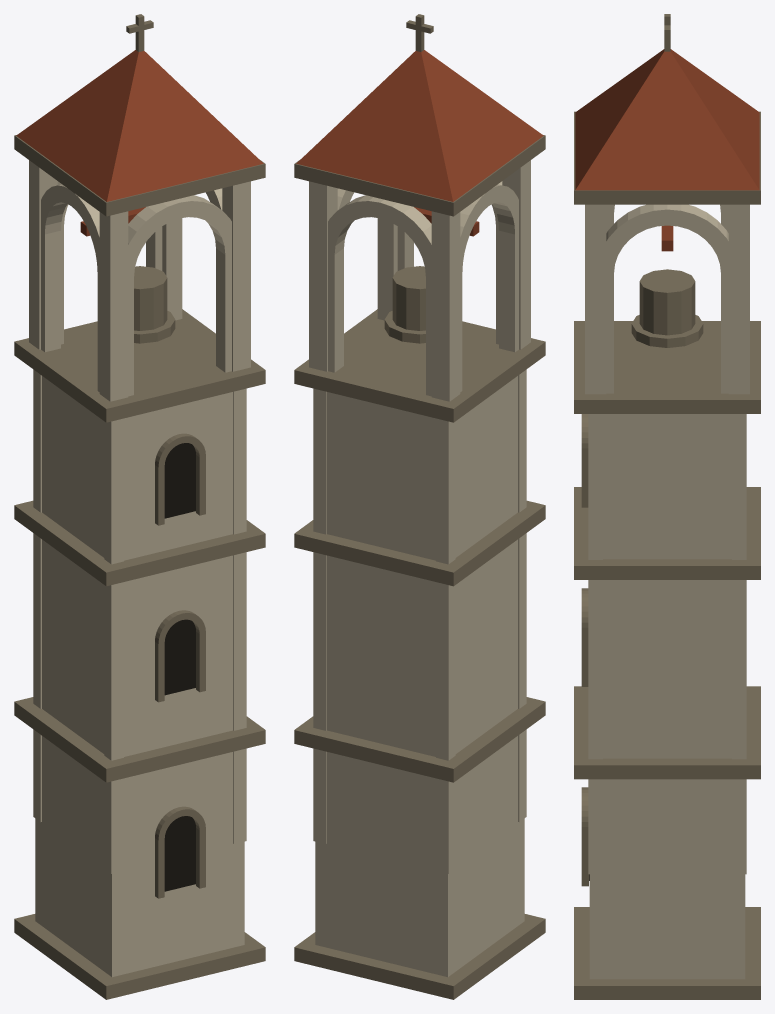
Rendered from env_bell_tower.obj.
3 renders of one model, left to right at view 1: azimuth 30°, elevation 25°; view 2: azimuth 150°, elevation 25°; view 3: azimuth 270°, elevation 25°, orthographic.
Visible parts, largest first — view 1: BellTower; view 2: BellTower; view 3: BellTower.
Boxes of the visible parts, x1,y1,x2,y2 form: BellTower: (14,14,265,999); BellTower: (294,14,545,999); BellTower: (574,14,760,999).
Bounding box in the file's own units: 2.55 × 14.3 × 2.55.
